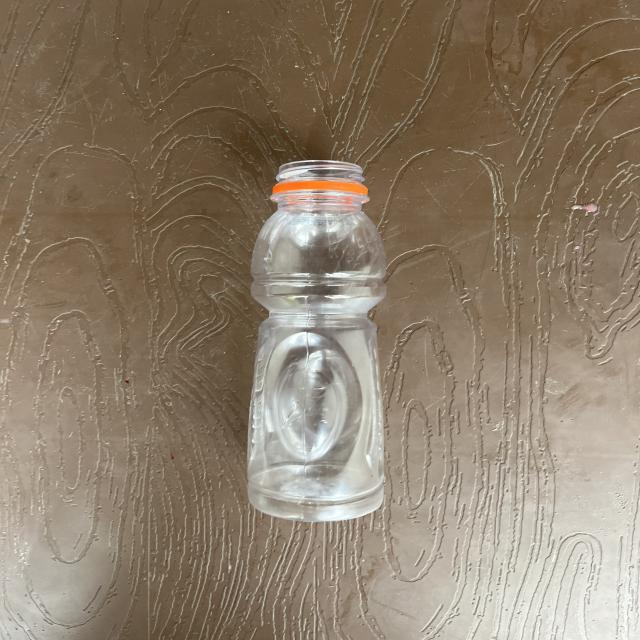PET_With_Cap: (232, 146, 413, 521)
